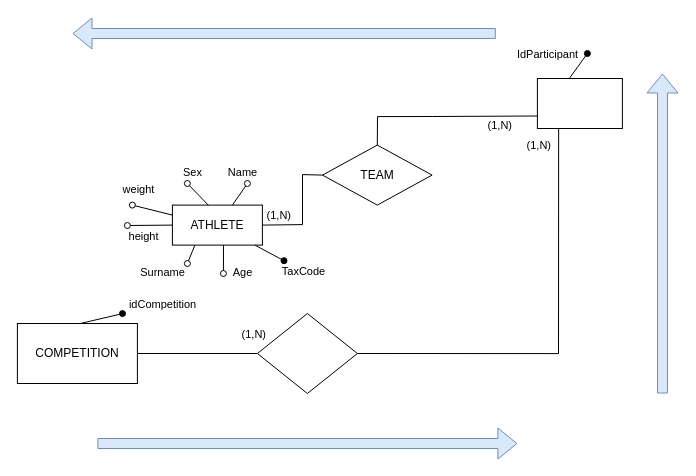
The diagram is 696 pixels wide and 476 high, and some of its shapes have lost their labels. The centre of each missing label's shape, as x and y in pixels:
"PARTICIPANT" goes at [579,103].
"RACE" goes at [306,353].
